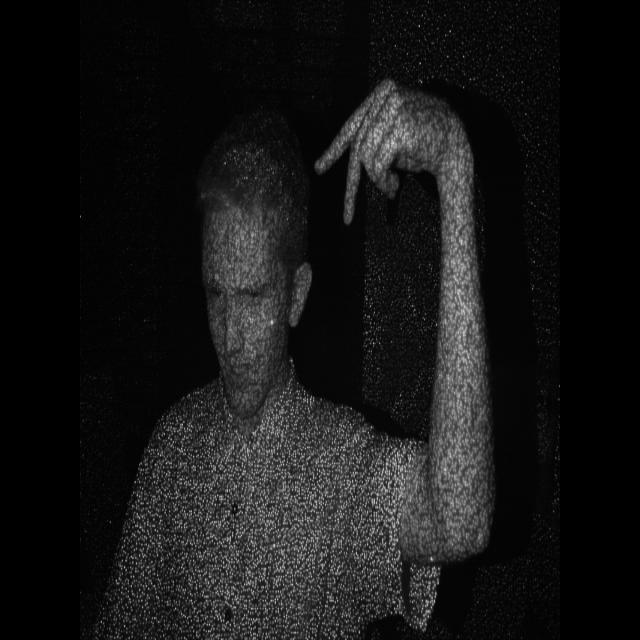P: (310, 56, 478, 238)
